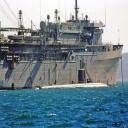submarine: (28, 57, 112, 90)
